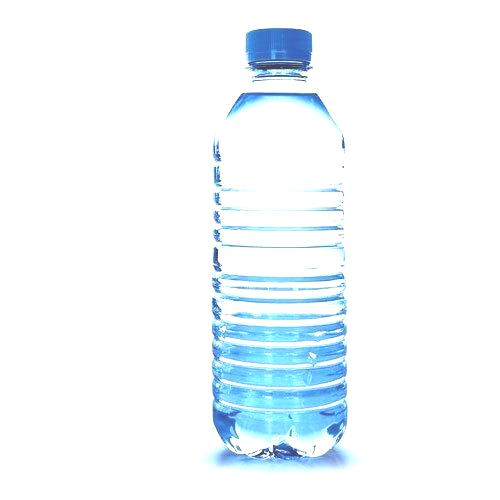bottle: (206, 10, 351, 472)
